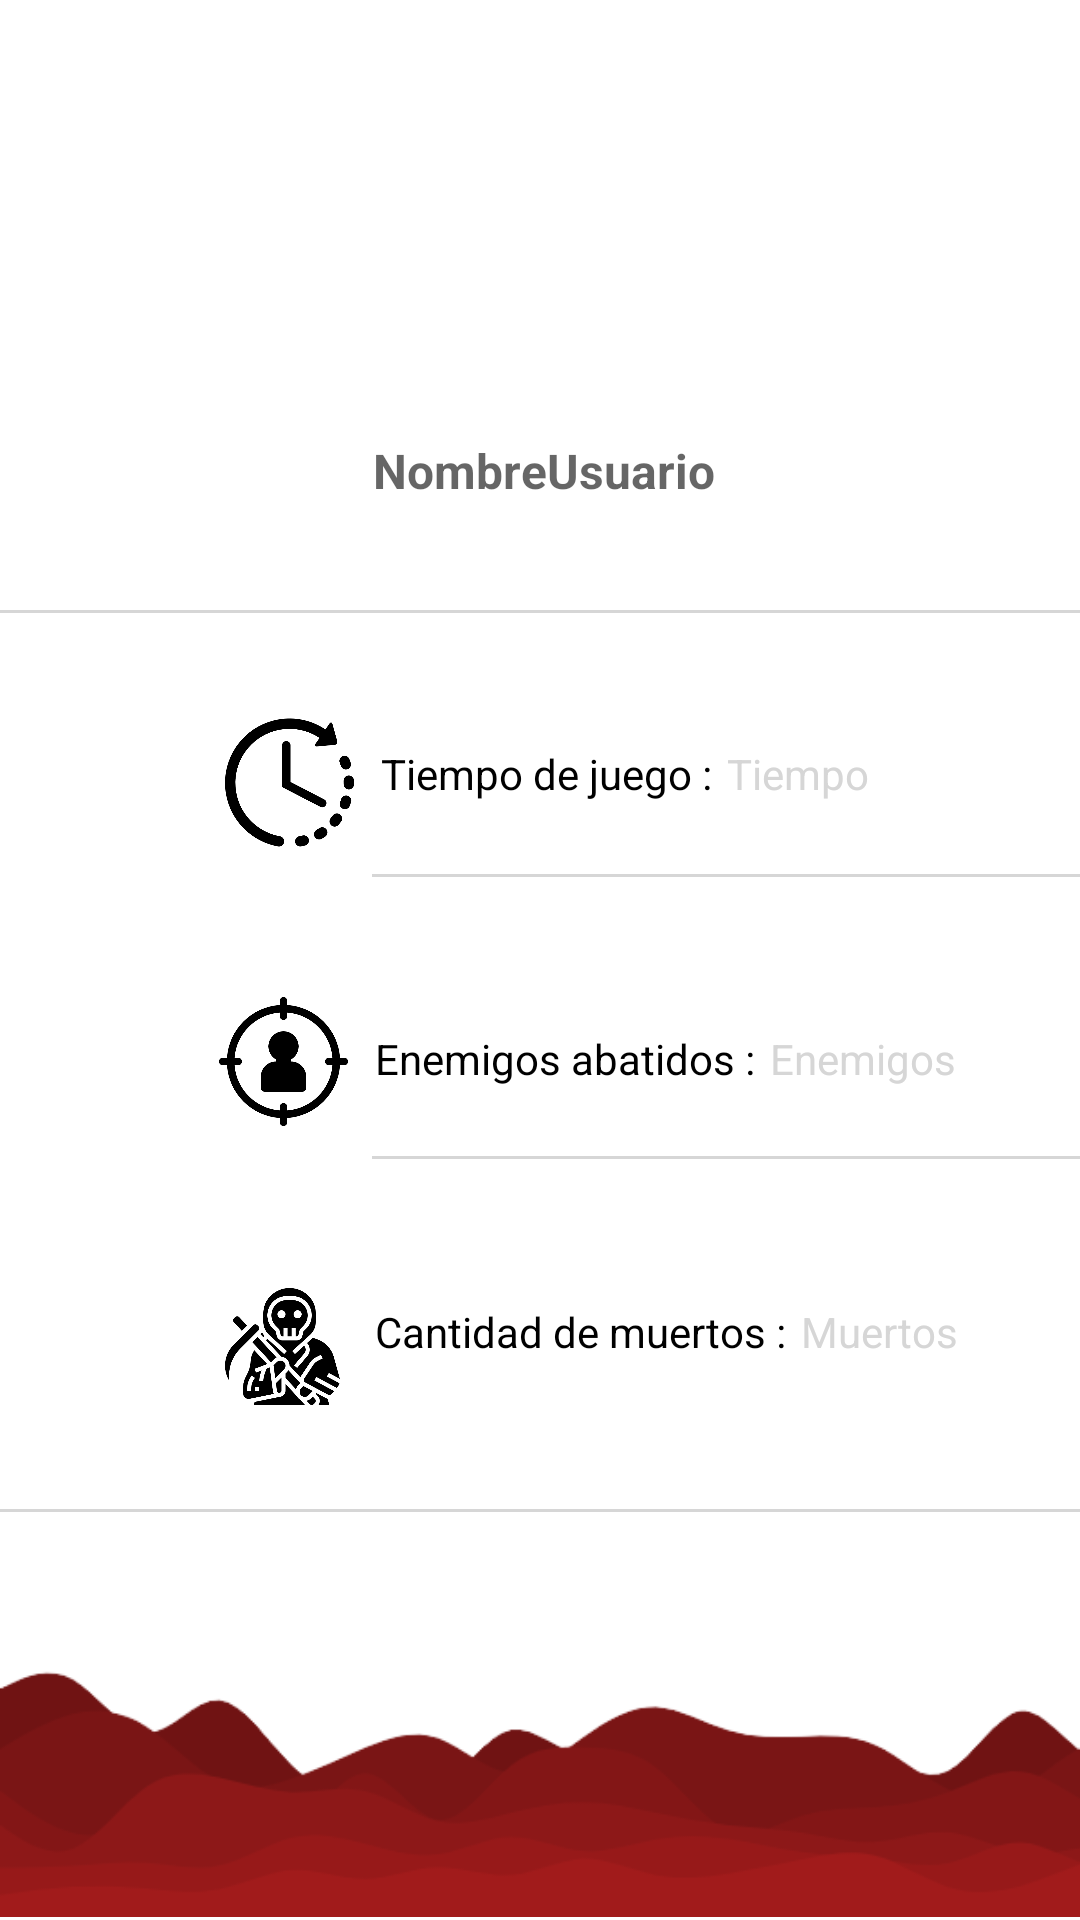

Icons on this 1080 x 1920 Android screen, each with the point to tap as (x=x, y=y):
muertes: (x=282, y=1346)
time: (x=289, y=782)
